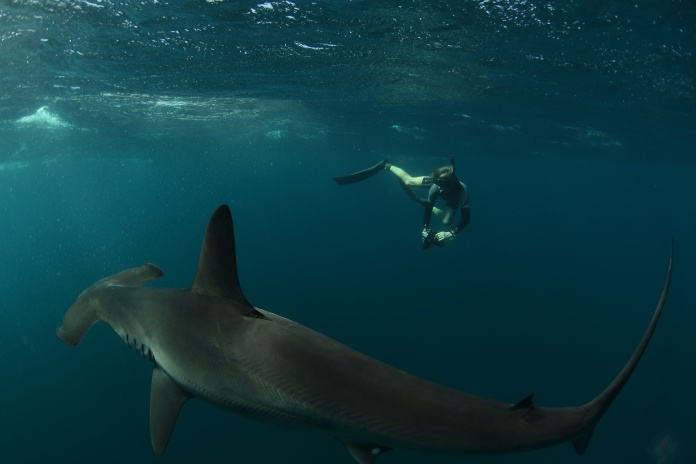Hammer: (51, 198, 674, 463)
